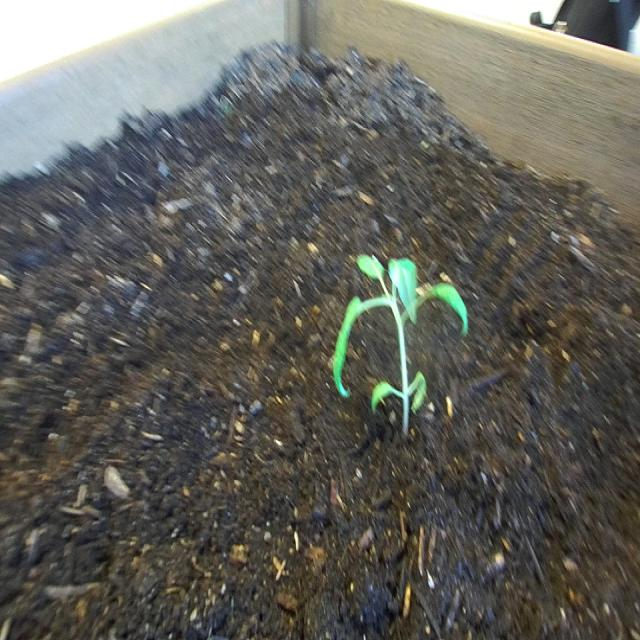Healthy: (329, 248, 471, 447)
